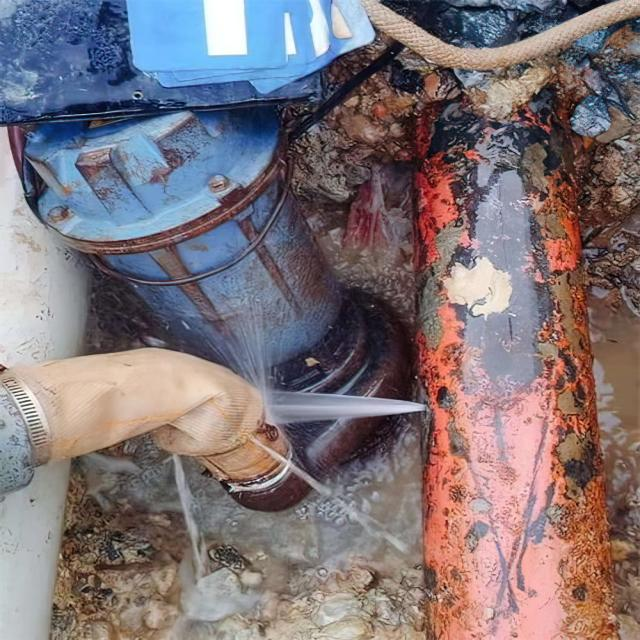leak: (269, 391, 425, 424)
